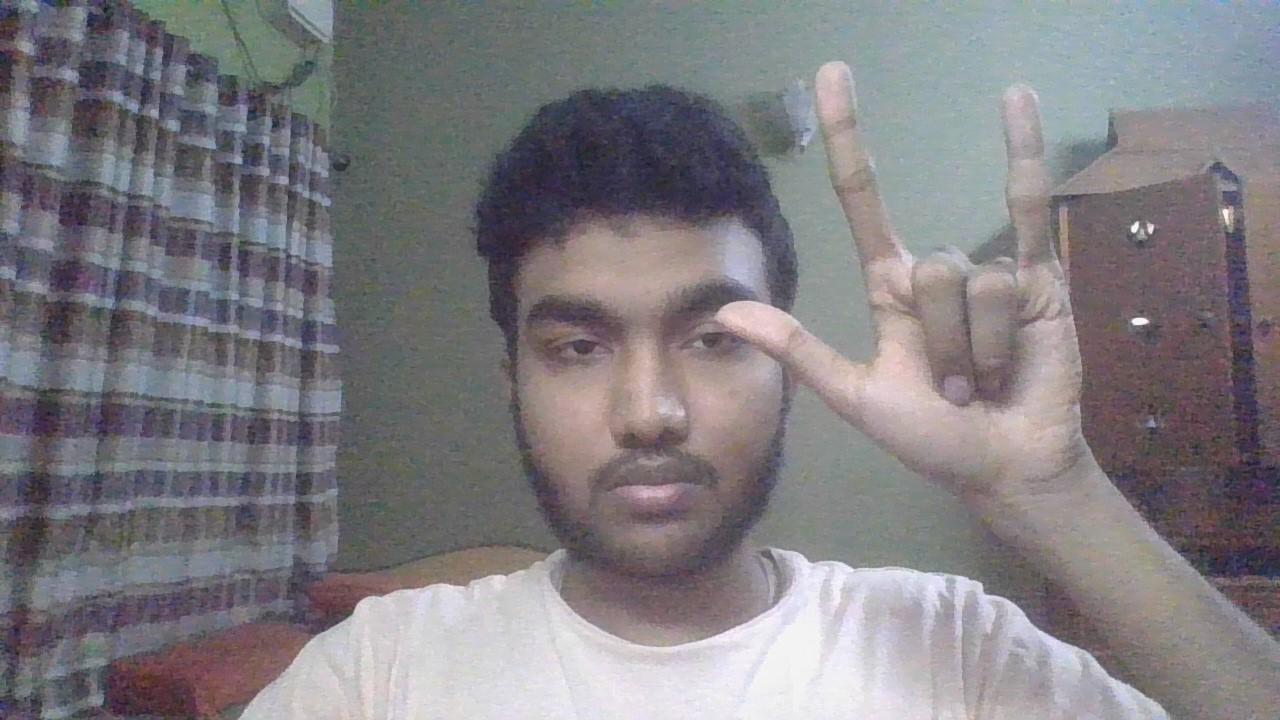I Love You: (685, 35, 1122, 502)
